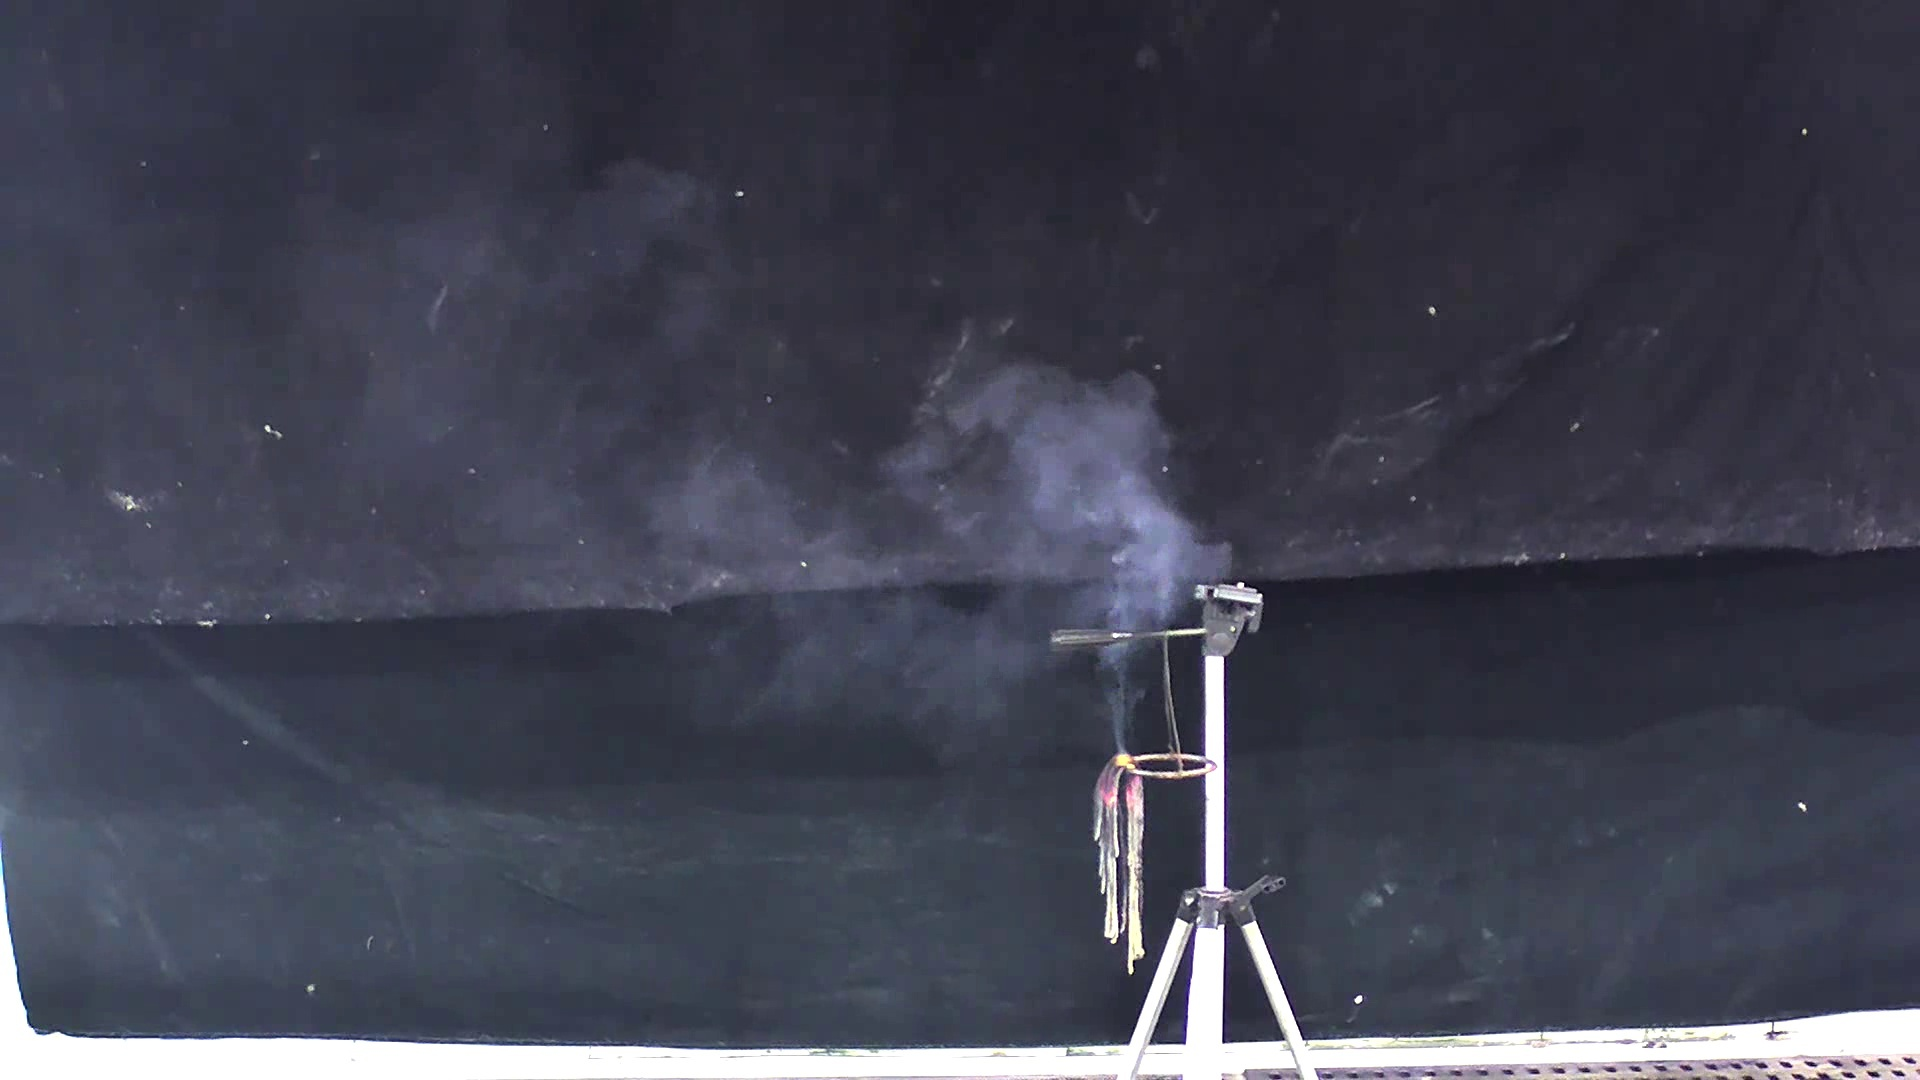smoke: (899, 313, 1233, 742)
